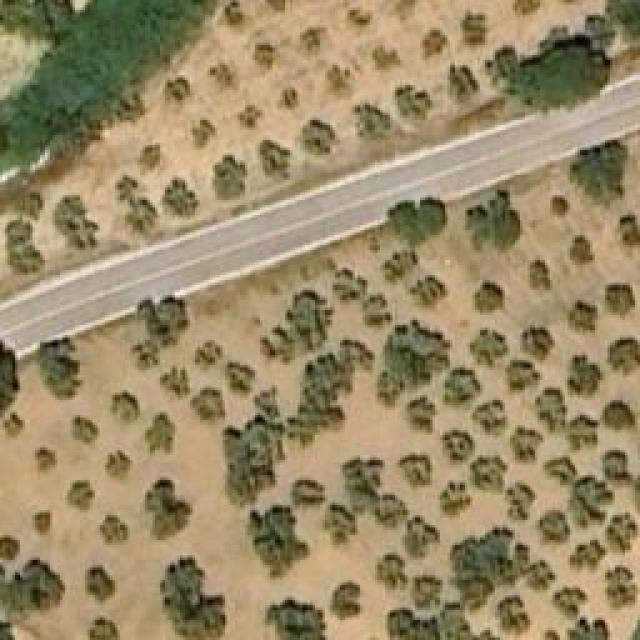Tree: (485, 27, 610, 115), (378, 318, 453, 408), (160, 557, 227, 640), (248, 505, 311, 578), (465, 190, 523, 253), (0, 558, 65, 613), (553, 585, 613, 640), (570, 140, 625, 198), (0, 0, 75, 42), (145, 478, 193, 541), (265, 597, 330, 640), (135, 293, 192, 342), (33, 335, 80, 394), (285, 295, 330, 353), (390, 200, 443, 248), (0, 330, 20, 453), (53, 195, 96, 248), (3, 223, 43, 276), (350, 103, 395, 148), (570, 480, 608, 528), (323, 503, 361, 549), (443, 365, 483, 408), (213, 155, 248, 200), (405, 515, 440, 560), (162, 178, 200, 218), (470, 398, 508, 438), (190, 385, 225, 428), (603, 568, 638, 611), (470, 327, 508, 365), (470, 455, 508, 493), (85, 565, 118, 608), (220, 360, 255, 400), (498, 598, 533, 638), (127, 198, 162, 238), (287, 478, 325, 513), (395, 455, 433, 490), (607, 337, 640, 377), (333, 580, 363, 624), (260, 140, 290, 183), (158, 365, 191, 403), (510, 425, 543, 463), (300, 118, 335, 153), (403, 398, 438, 433), (145, 413, 175, 453), (0, 615, 48, 640), (443, 428, 476, 463), (383, 253, 416, 288), (378, 552, 408, 590), (507, 483, 535, 523), (98, 513, 131, 546), (395, 85, 428, 118), (330, 268, 363, 301), (607, 515, 635, 553), (505, 360, 540, 390), (440, 480, 470, 515), (570, 355, 600, 390), (535, 393, 565, 428), (110, 390, 140, 423), (65, 480, 95, 513), (413, 575, 443, 608), (570, 418, 600, 451), (565, 305, 598, 333), (518, 330, 551, 358), (447, 68, 475, 101), (602, 453, 630, 486), (295, 28, 325, 58), (195, 340, 225, 370), (250, 40, 279, 69), (603, 285, 633, 313), (360, 295, 388, 325), (600, 405, 633, 430), (130, 341, 160, 368), (85, 617, 120, 640), (457, 17, 485, 45), (540, 512, 568, 540), (193, 118, 218, 148), (105, 450, 130, 480), (570, 545, 600, 570), (238, 105, 263, 133), (73, 415, 98, 443), (472, 283, 500, 308), (208, 62, 233, 90), (542, 460, 570, 485), (415, 277, 440, 305), (35, 447, 58, 475), (325, 65, 350, 90), (371, 47, 398, 69), (568, 240, 593, 263), (525, 263, 548, 288), (168, 78, 191, 101), (278, 85, 302, 107), (140, 143, 160, 168), (423, 33, 446, 53), (0, 532, 19, 555), (35, 513, 50, 533), (625, 620, 640, 640)
